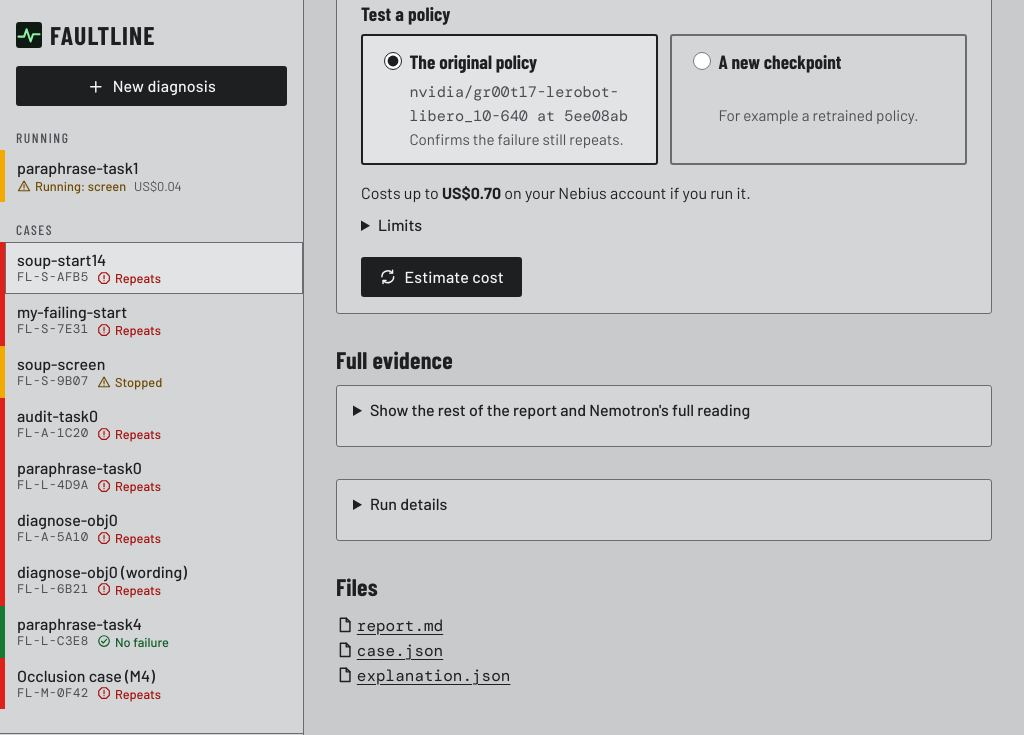
Test: report-first scenario case › keeps the rest of the report in Full evidence, collapsed, with headings one level under its h2
(page scrolled)
Click the heading "Show the rest of the report and Nemotron's full reading": point(560, 410) top-left (370, 400), bottom-right (750, 419)
(page scrolled)
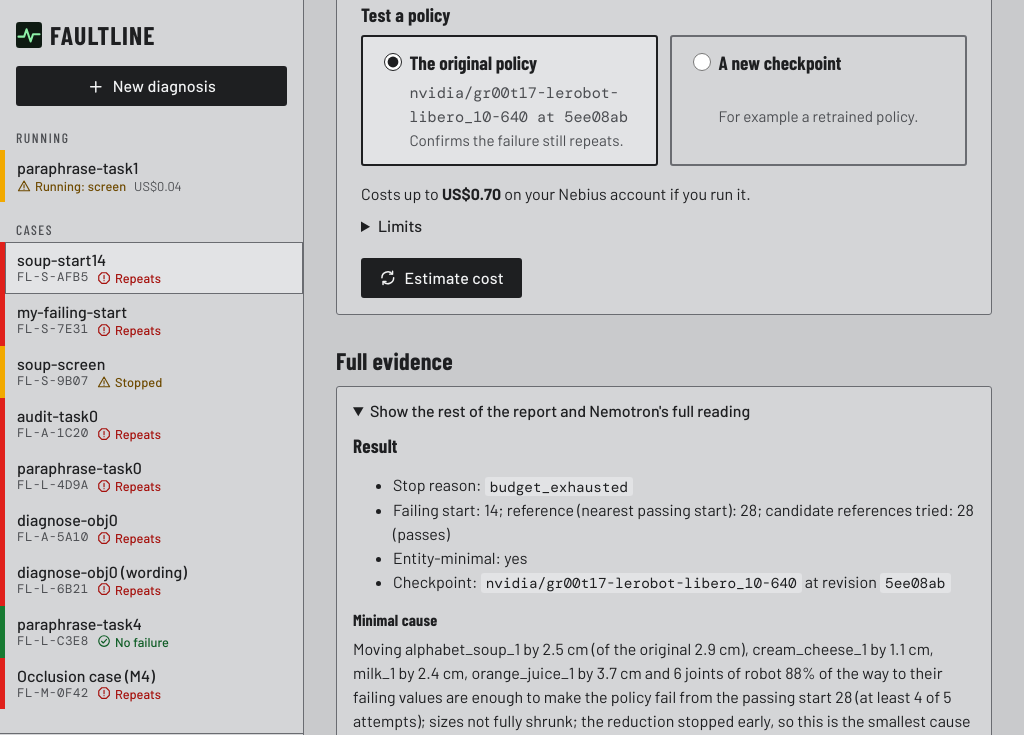
Now the list item "Entity-minimal: yes" is shown, box top-left (393, 548), bottom-right (527, 567)
